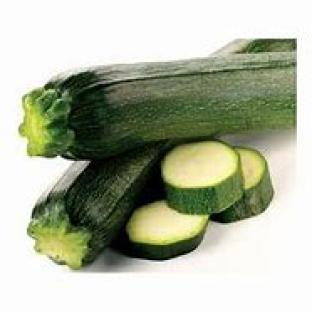Zucchini: (21, 52, 295, 159), (29, 145, 166, 268), (162, 141, 243, 214), (115, 200, 209, 259), (212, 148, 273, 223), (214, 39, 296, 55)
